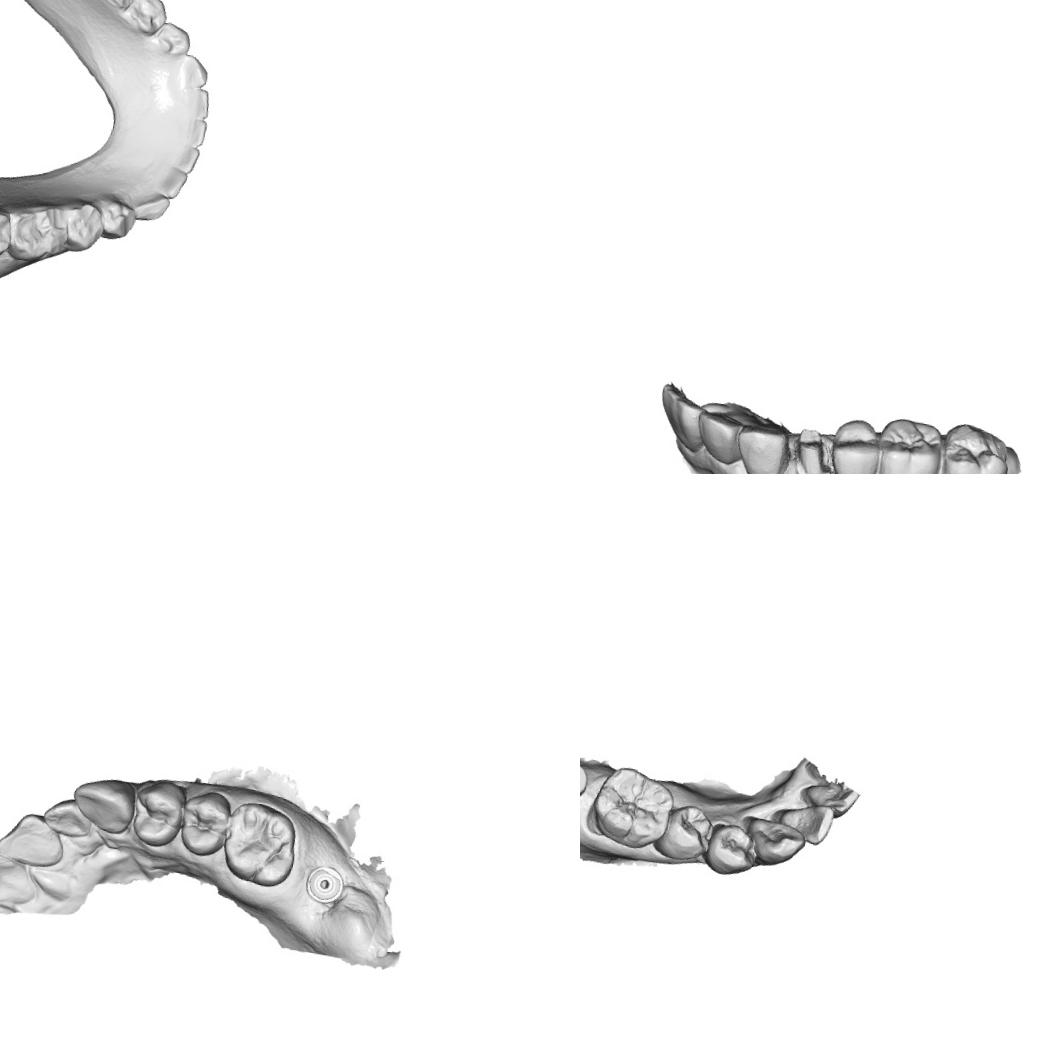canine: (67, 772, 138, 838), (736, 812, 808, 872), (730, 413, 794, 474), (120, 184, 174, 224), (157, 50, 212, 89)
crown: (786, 424, 839, 474)
implant: (302, 859, 350, 911), (580, 756, 592, 804)
incisor: (690, 399, 758, 472), (650, 379, 712, 457), (0, 806, 71, 872), (774, 797, 836, 848), (796, 776, 862, 822), (38, 792, 96, 842), (0, 847, 44, 912), (130, 160, 188, 202), (140, 138, 202, 176), (152, 112, 212, 148), (160, 82, 214, 120)
molar: (586, 761, 679, 856), (216, 799, 302, 892), (0, 198, 73, 268), (867, 413, 949, 474), (932, 418, 1018, 474), (0, 201, 16, 267)
premolar: (123, 773, 192, 853), (173, 782, 238, 858), (652, 798, 717, 864), (823, 411, 885, 474), (700, 819, 762, 880), (56, 197, 108, 256), (90, 193, 139, 244), (117, 0, 170, 39), (148, 19, 195, 59)
